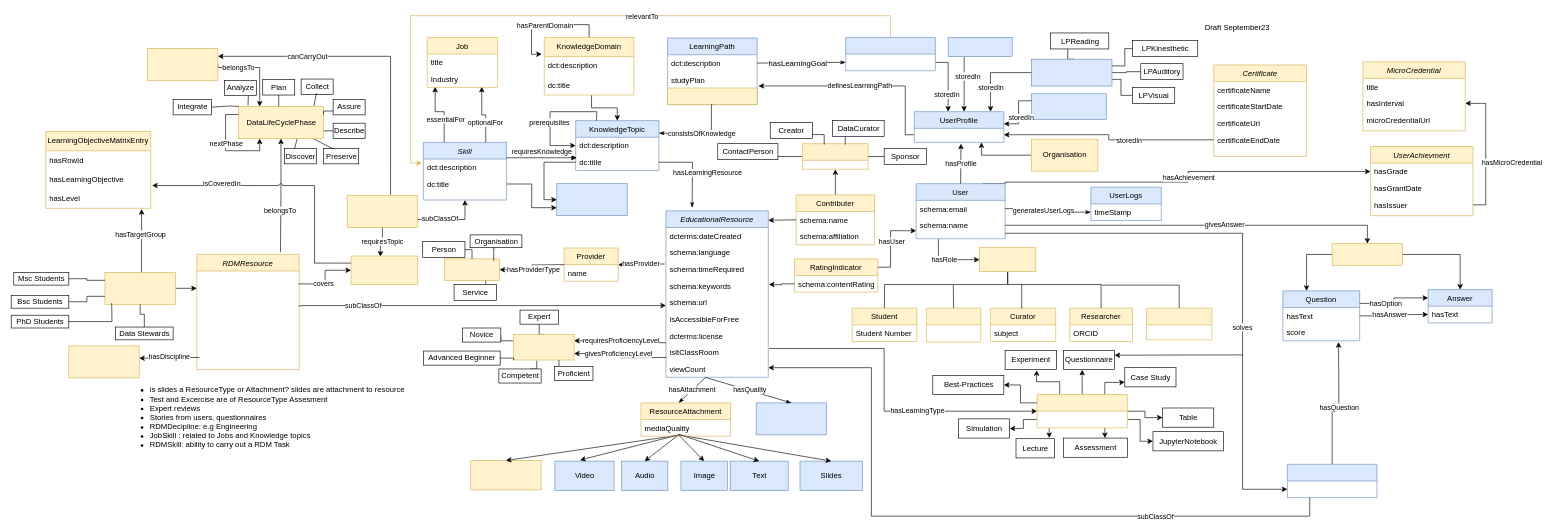
Image size: 1553x532. Some labels were removed from this diagram. The shapes that lost their labels are listed below. From the top down, each one's centre as x and y in pixels, then its label:
pixel 182 64: RDMTask
pixel 890 54: LearningGoal
pixel 980 47: Recommendation
pixel 1071 72: LearningPreference
pixel 712 96: OrderOfTopics:RDFlist
pixel 1068 106: AcademicParameter
pixel 835 156: ContributorType
pixel 382 211: RDMSkill
pixel 591 199: LearningOutcome
pixel 384 269: RDMTopic
pixel 472 269: Provider_type
pixel 1007 259: UserRole
pixel 1367 254: UserAnswer
pixel 139 288: TargetGroup
pixel 953 325: Teacher
pixel 1179 324: Author
pixel 103 361: RDMDiscipline
pixel 543 347: ProficiencyLevel
pixel 791 418: ContentQuality
pixel 1081 411: LearningResourceType
pixel 505 475: Code/Script
pixel 1332 481: Excercise
